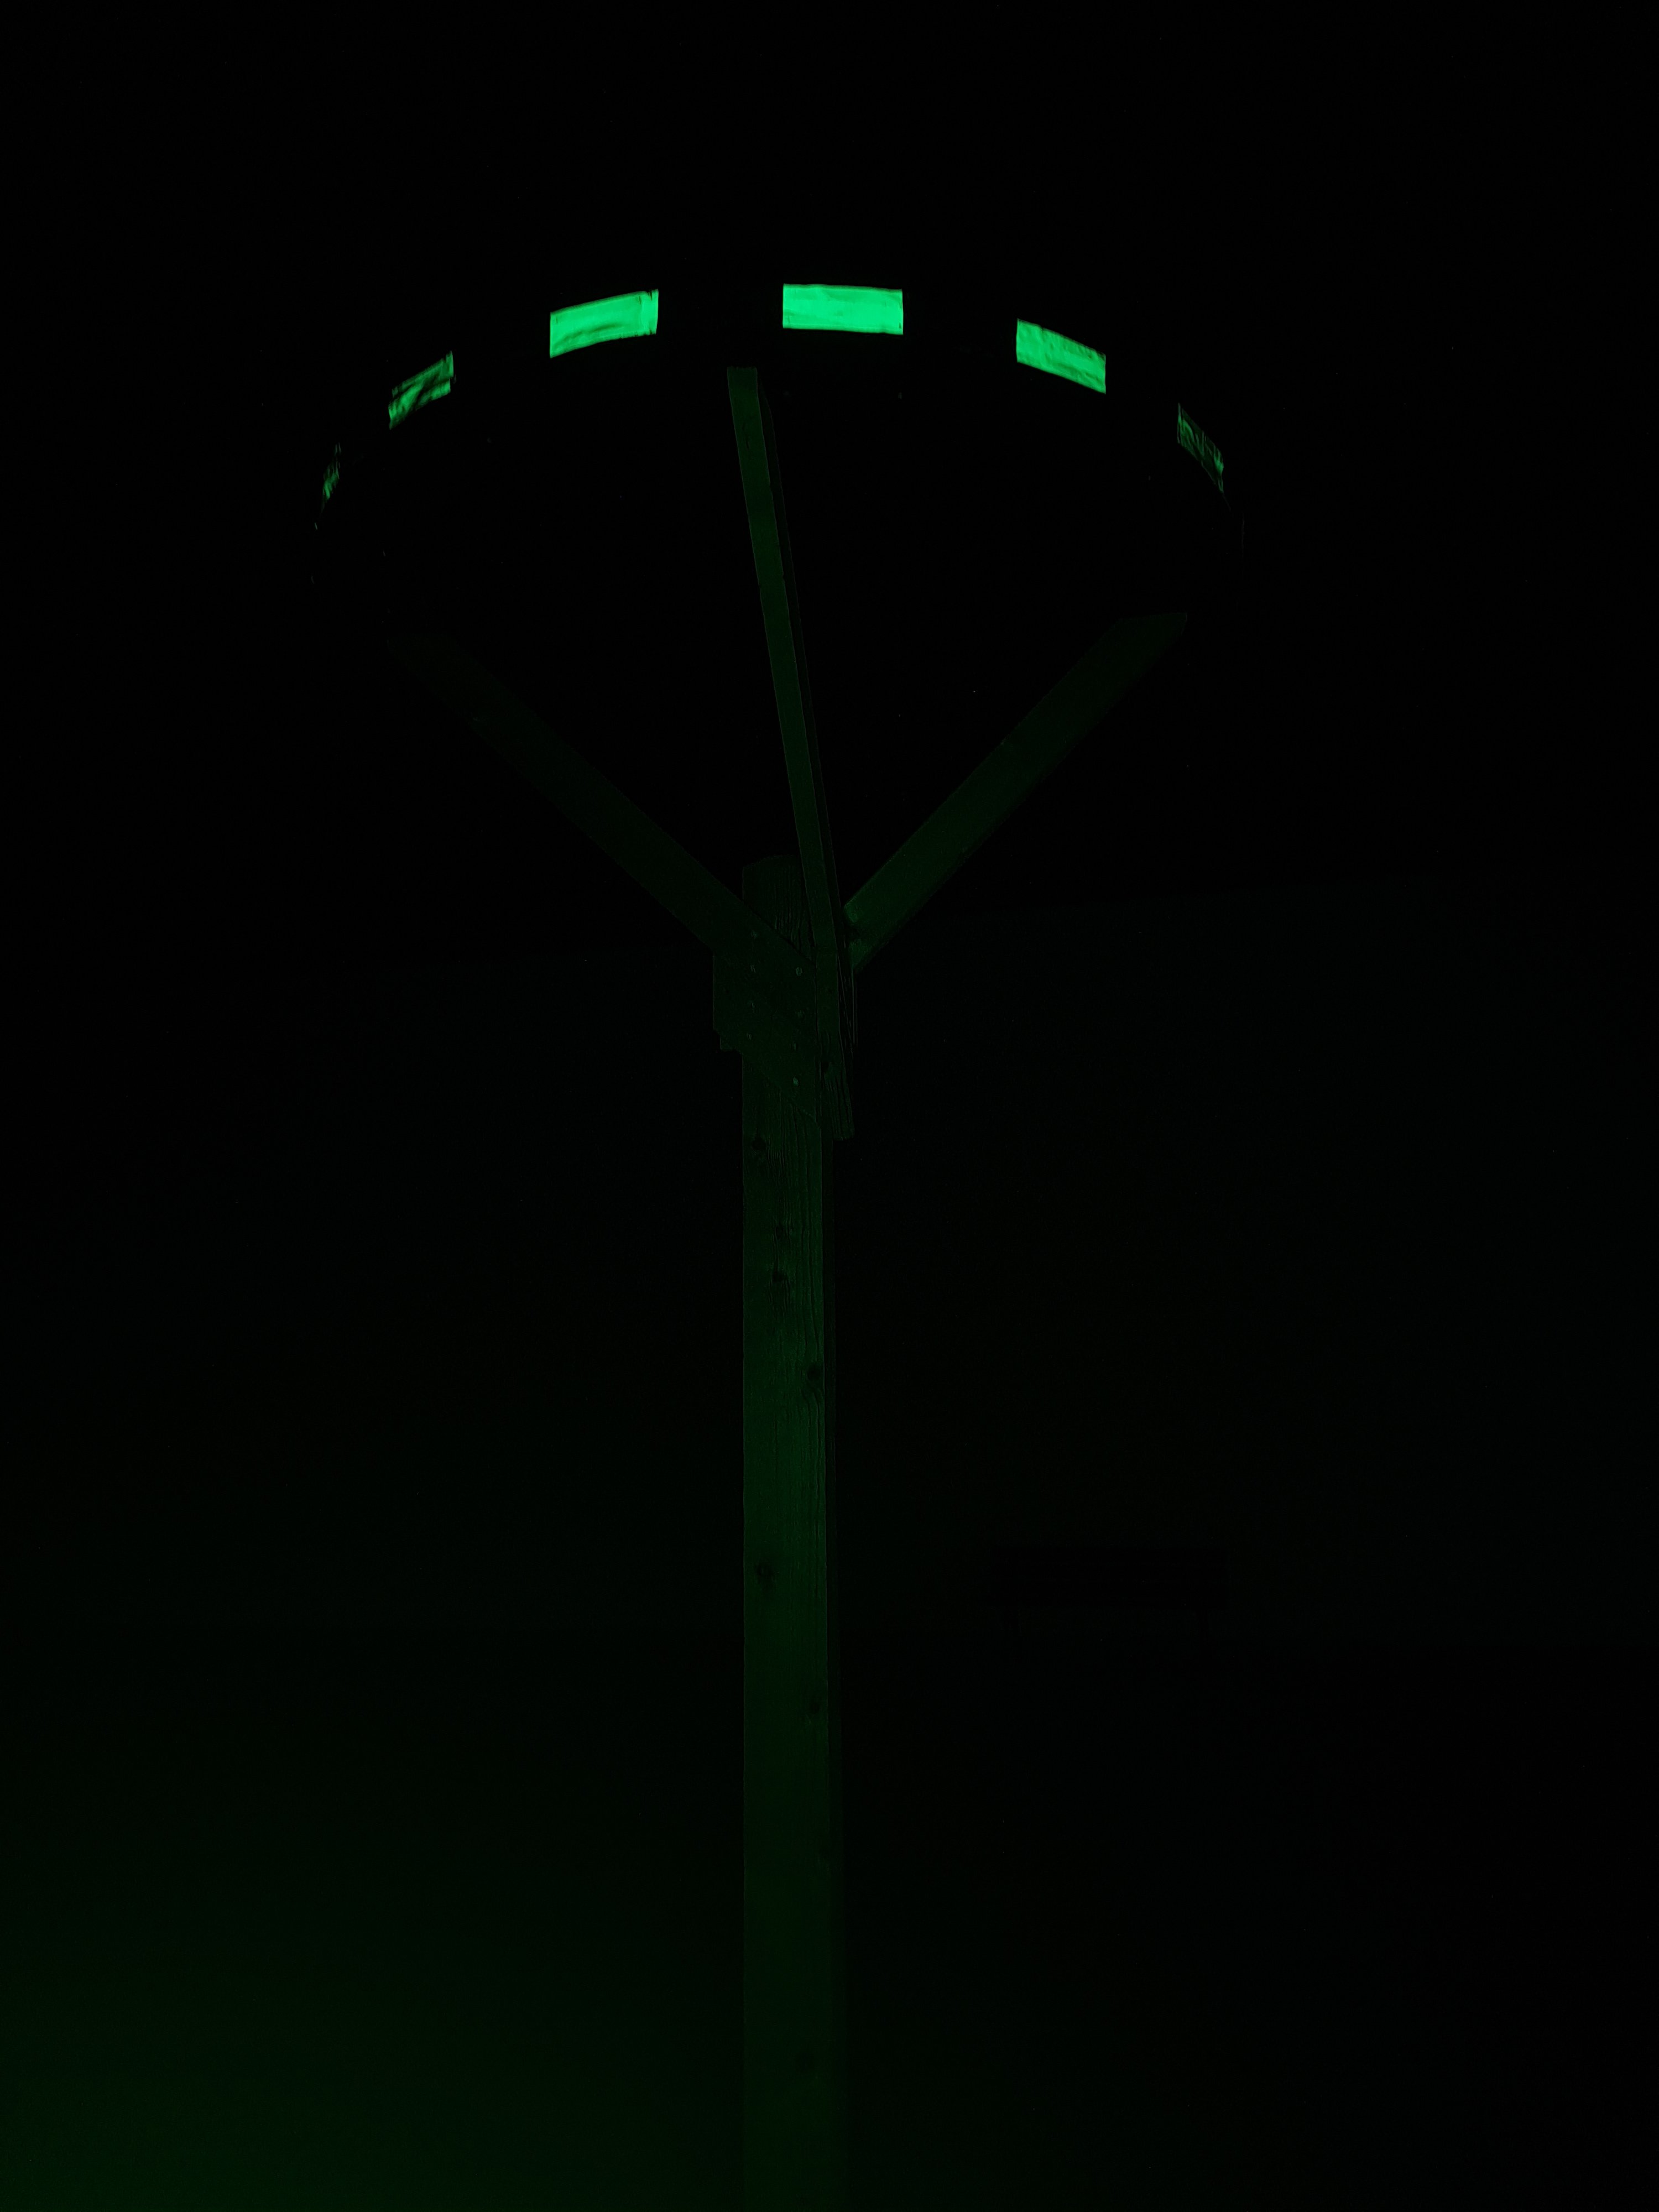hoop: (322, 280, 1229, 489)
